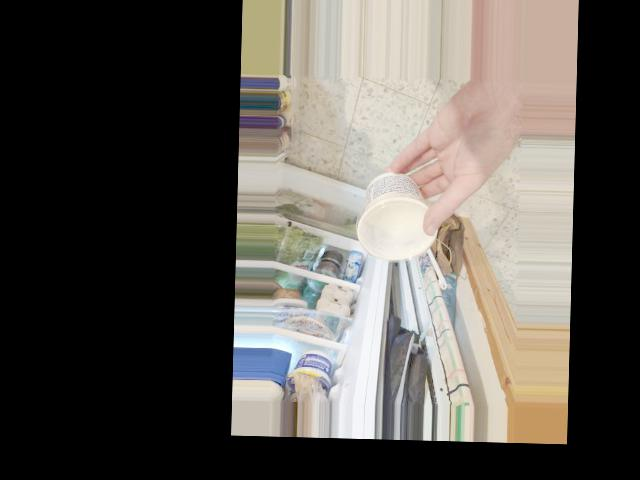cotage: (358, 172, 429, 258)
